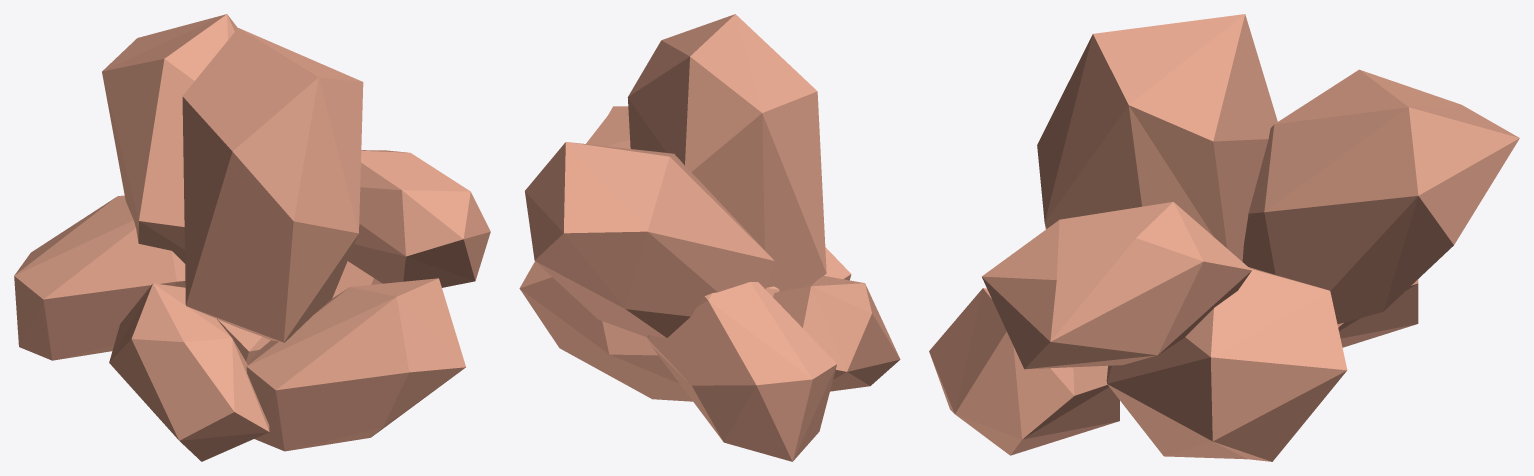
The model's file is metal_nugget.fbx.
3 renders of one model, left to right at view 1: azimuth 30°, elevation 25°; view 2: azimuth 150°, elevation 25°; view 3: azimuth 270°, elevation 25°, orthographic. The views are drawn at different scales.
Visible parts, largest first — view 1: metal_nugget; view 2: metal_nugget; view 3: metal_nugget.
Part boxes in pixels (x1=…): metal_nugget: x1=14, y1=14, x2=490, y2=461; metal_nugget: x1=519, y1=14, x2=900, y2=461; metal_nugget: x1=929, y1=14, x2=1519, y2=461.
Size of the model in its own units: 66.4 by 67.05 by 81.29.
